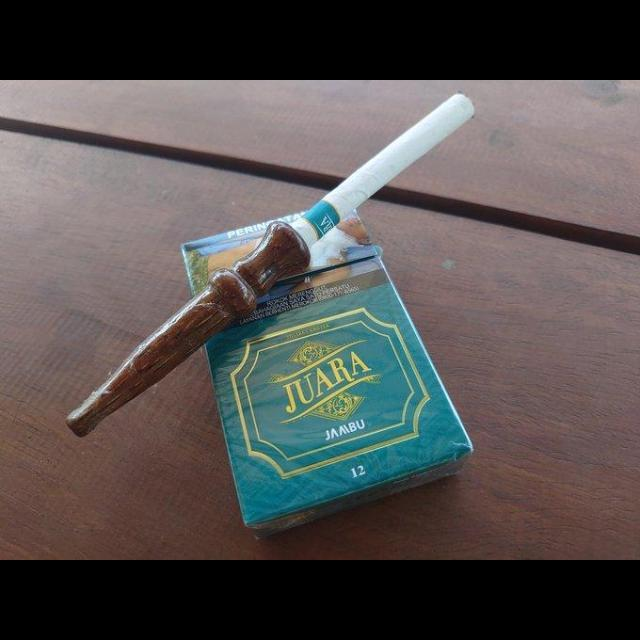rokok: (294, 88, 478, 246)
